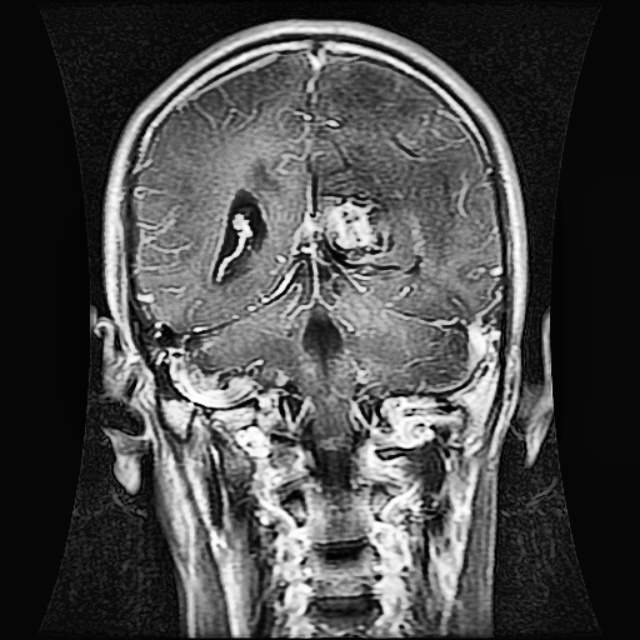Meningioma: (289, 182, 402, 307)
